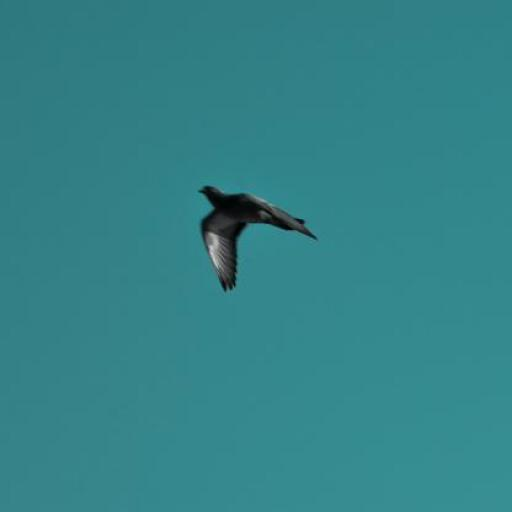bird: (198, 185, 319, 293)
